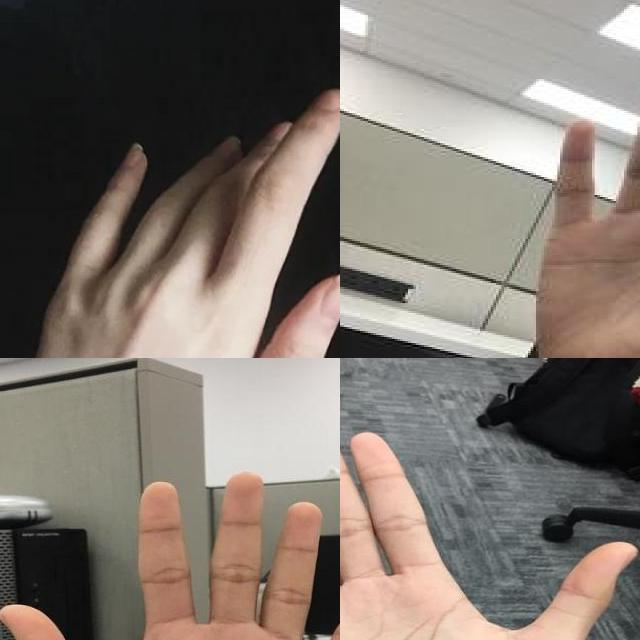hand: (0, 87, 340, 358), (340, 423, 640, 640), (0, 471, 340, 640), (465, 69, 640, 358)
